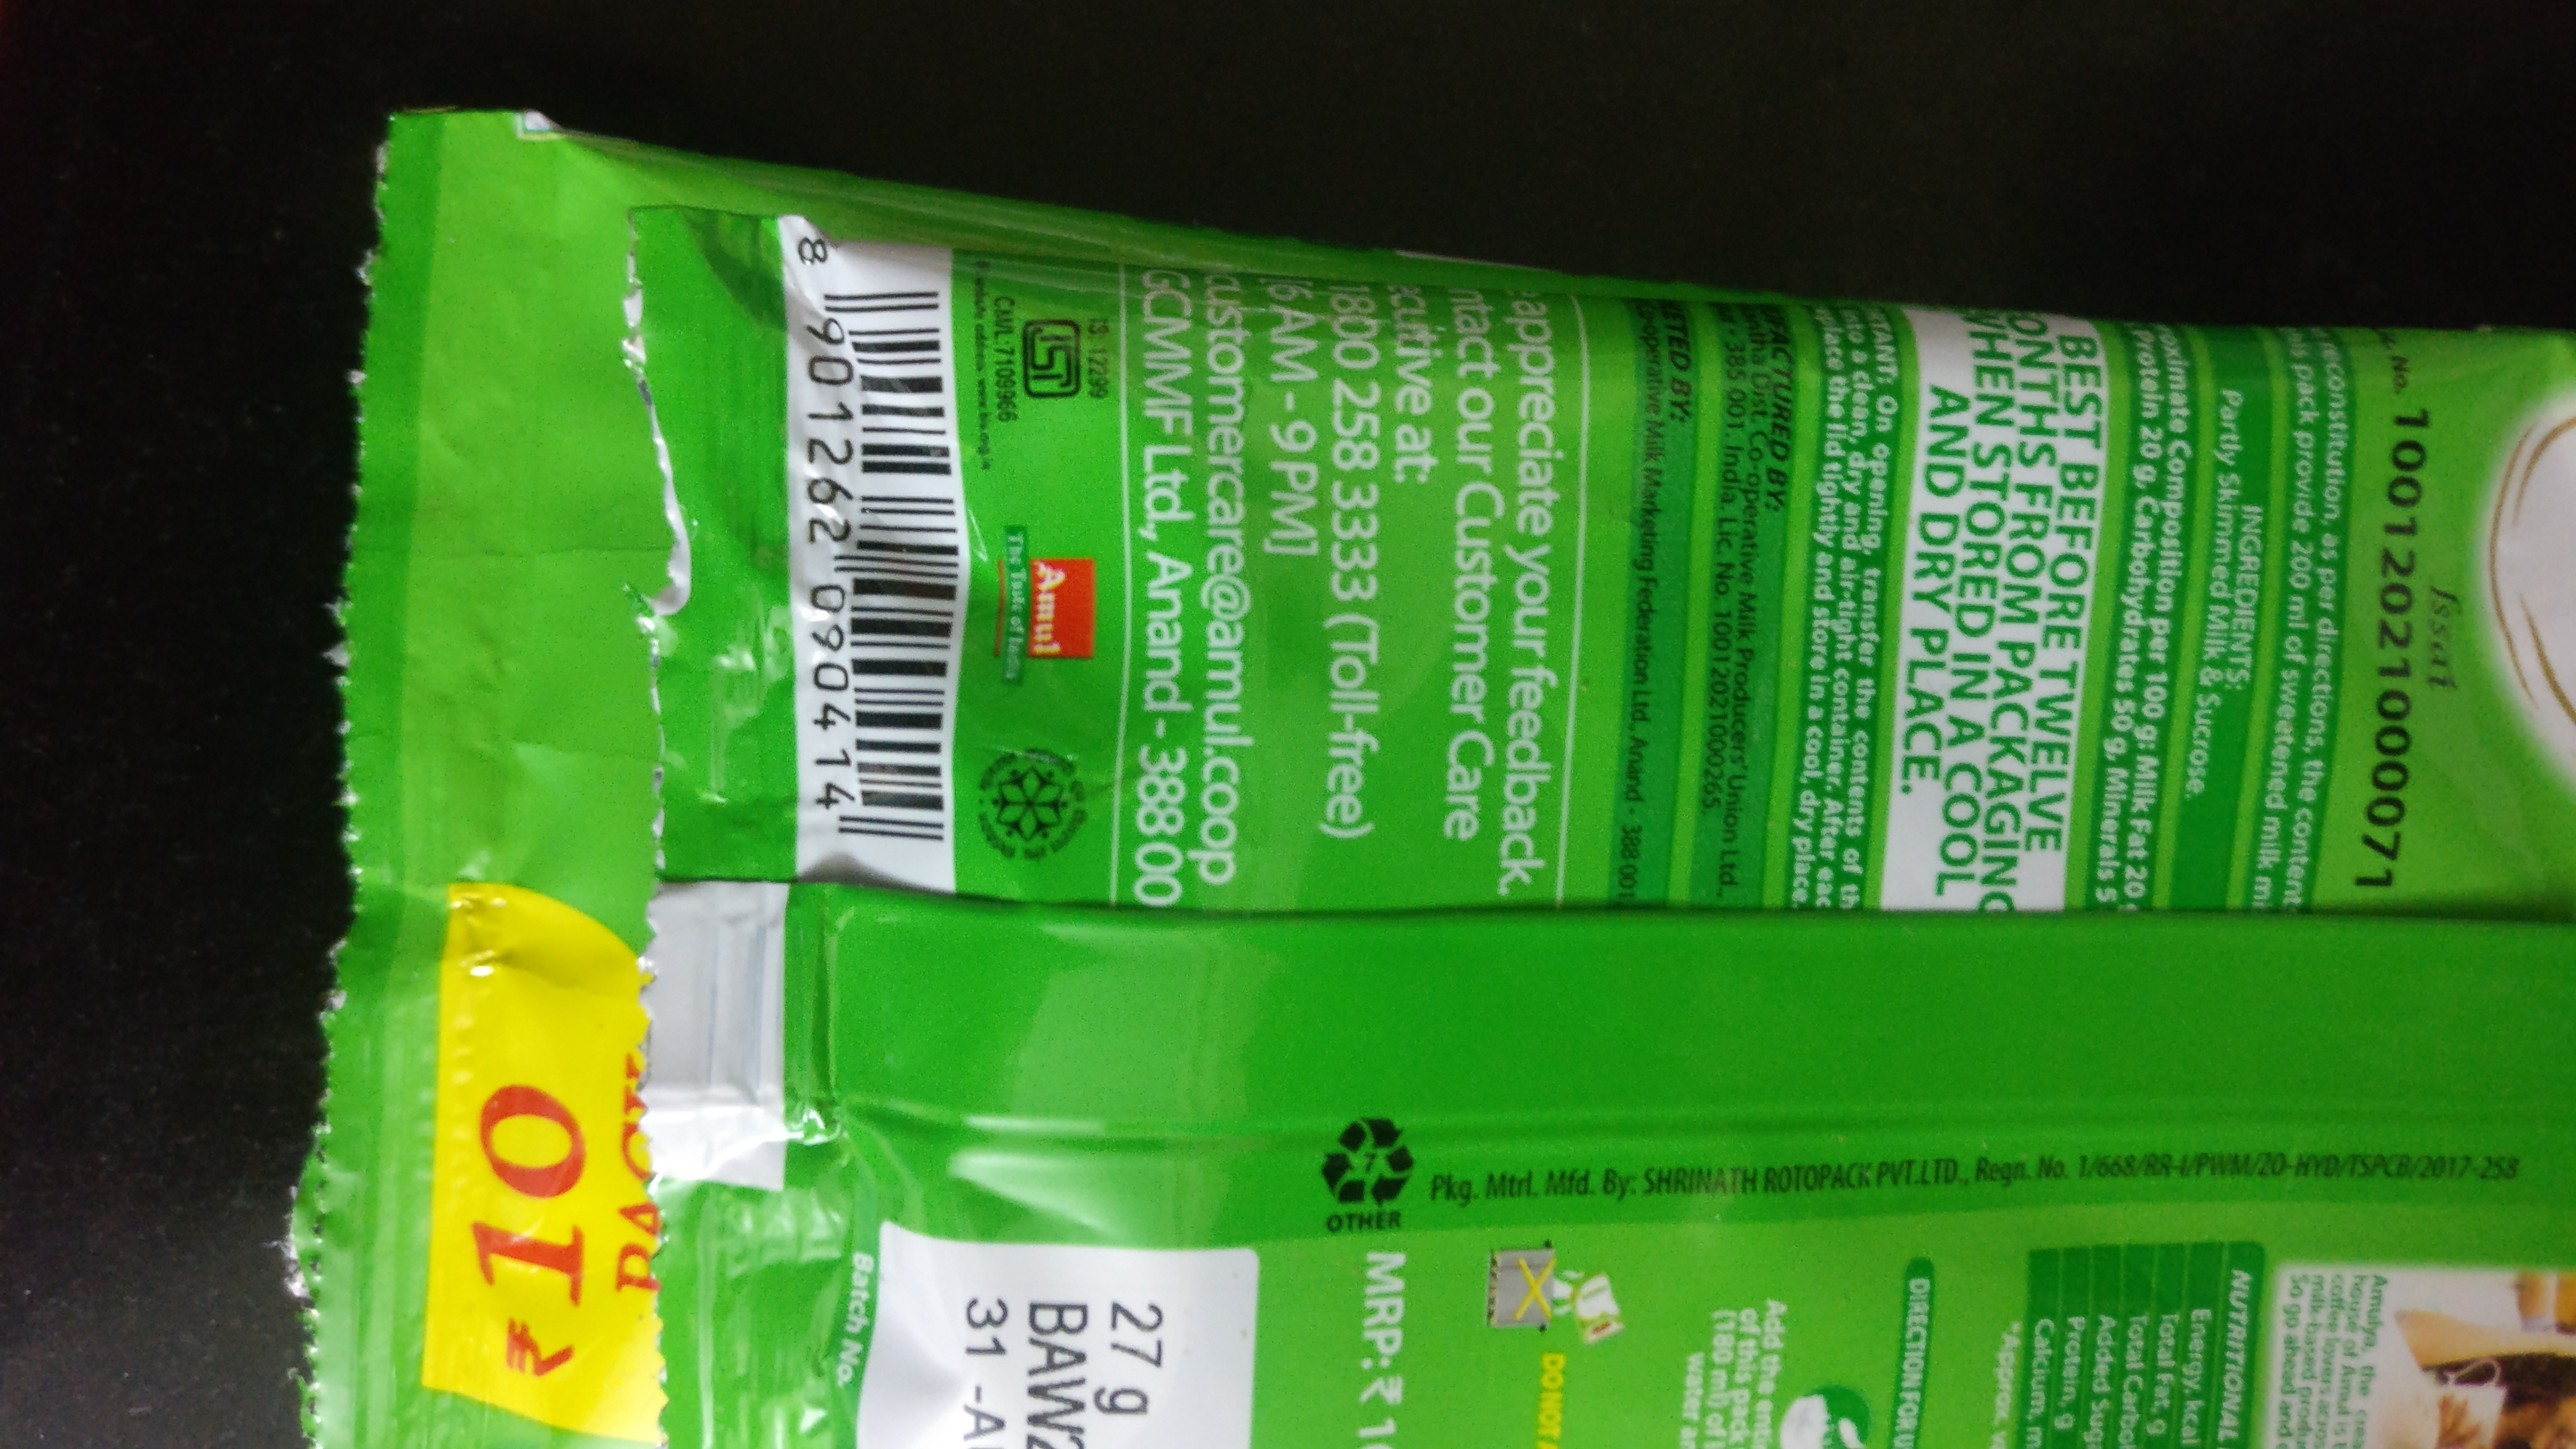barcode: (775, 228, 998, 856)
